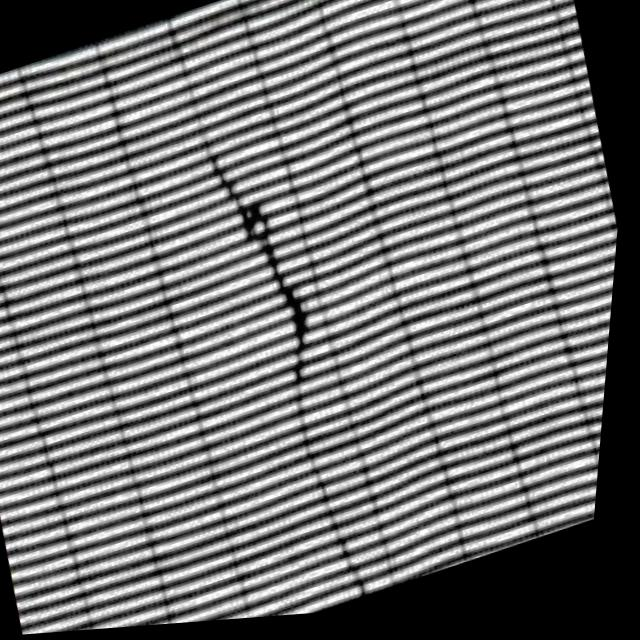Stitch: (165, 106, 363, 428)
